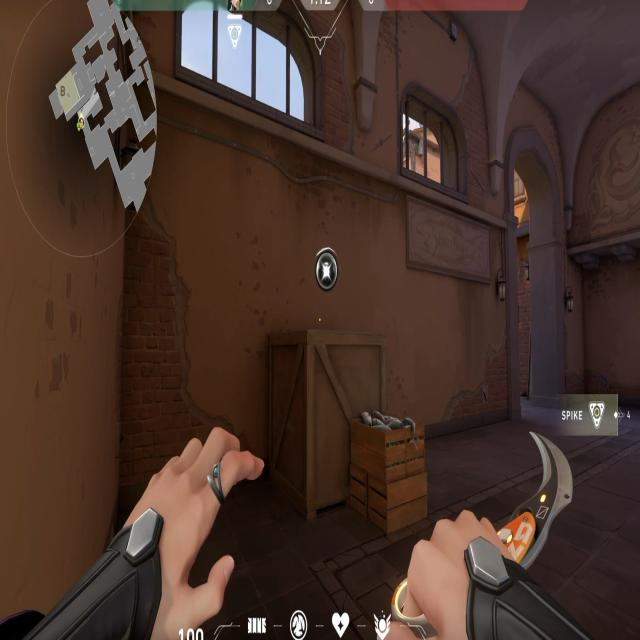B_Main_Wallbang: (242, 228, 432, 538)
Throwables: (161, 0, 331, 146), (393, 74, 478, 212)
